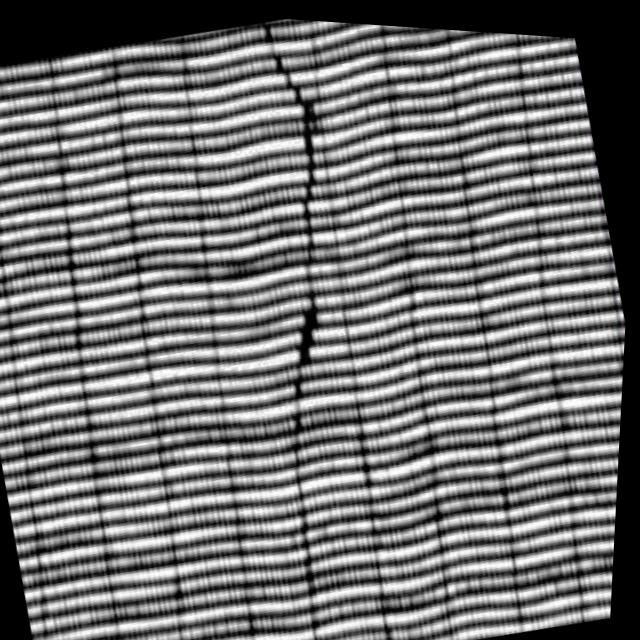Stitch: (170, 10, 418, 426)
